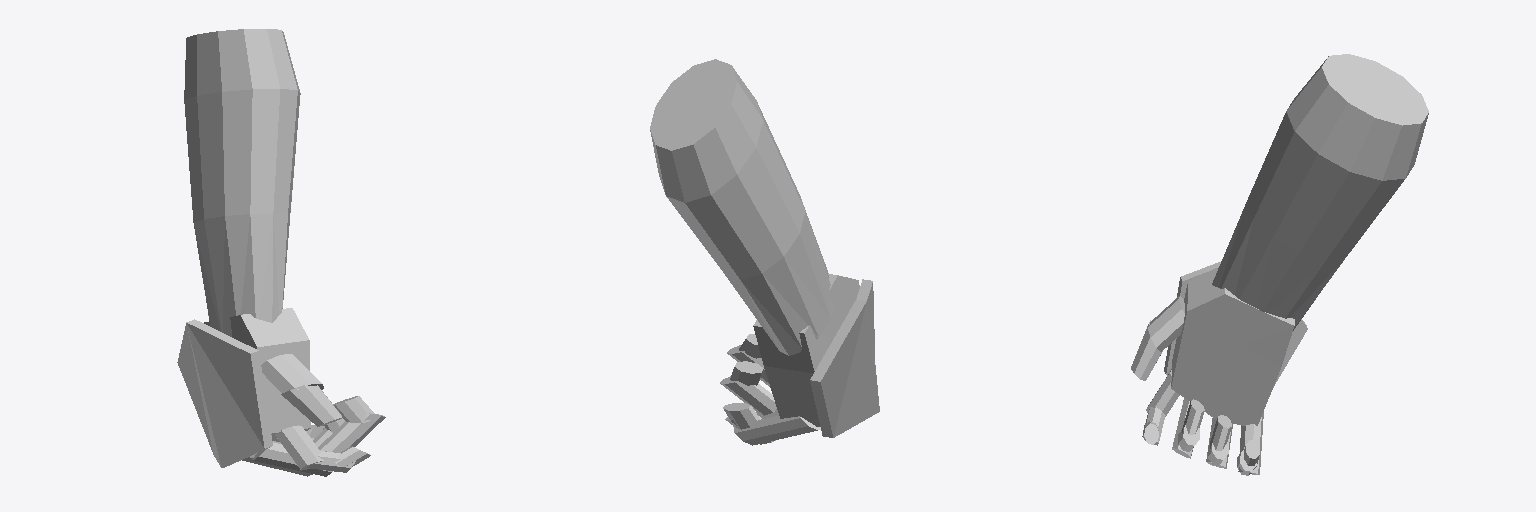
The model's file is ForeArm_R.obj.
3 renders of one model, left to right at view 1: azimuth 30°, elevation 25°; view 2: azimuth 150°, elevation 25°; view 3: azimuth 270°, elevation 25°, orthographic.
Parts seen in each view (by area): view 1: ForeArm_R pCylinder60, ForeArm_R pCube35, ForeArm_R pCube30, ForeArm_R pCylinder19, ForeArm_R pCylinder20, ForeArm_R pCylinder21, ForeArm_R pCylinder27, ForeArm_R pCylinder22, ForeArm_R pCylinder32; view 2: ForeArm_R pCylinder60, ForeArm_R pCube35, ForeArm_R pCube30, ForeArm_R pCylinder61, ForeArm_R pCylinder57, ForeArm_R pCylinder30, ForeArm_R pCylinder31; view 3: ForeArm_R pCylinder60, ForeArm_R pCube30, ForeArm_R pCylinder19, ForeArm_R pCube35, ForeArm_R pCylinder20, ForeArm_R pCylinder21, ForeArm_R pCylinder61, ForeArm_R pCylinder31.
Boxes of the visible parts, x1,y1,x2,y2 form: ForeArm_R pCylinder60: [184, 29, 300, 337]; ForeArm_R pCube35: [177, 319, 272, 467]; ForeArm_R pCube30: [204, 308, 310, 441]; ForeArm_R pCylinder19: [261, 354, 323, 392]; ForeArm_R pCylinder20: [281, 385, 342, 426]; ForeArm_R pCylinder21: [275, 425, 323, 470]; ForeArm_R pCylinder27: [318, 413, 385, 452]; ForeArm_R pCylinder22: [252, 441, 332, 476]; ForeArm_R pCylinder32: [333, 396, 374, 423]; ForeArm_R pCylinder60: [650, 59, 833, 355]; ForeArm_R pCube35: [810, 279, 879, 437]; ForeArm_R pCube30: [753, 274, 859, 426]; ForeArm_R pCylinder61: [733, 415, 820, 445]; ForeArm_R pCylinder57: [720, 376, 776, 415]; ForeArm_R pCylinder30: [723, 403, 759, 429]; ForeArm_R pCylinder31: [730, 361, 763, 385]; ForeArm_R pCylinder60: [1212, 54, 1428, 330]; ForeArm_R pCube30: [1171, 267, 1294, 425]; ForeArm_R pCylinder19: [1148, 296, 1184, 351]; ForeArm_R pCube35: [1164, 262, 1307, 387]; ForeArm_R pCylinder20: [1131, 320, 1162, 380]; ForeArm_R pCylinder21: [1146, 370, 1179, 416]; ForeArm_R pCylinder61: [1238, 412, 1263, 474]; ForeArm_R pCylinder31: [1210, 415, 1231, 450].
Bounding box in the file's own units: 1.1 × 2.56 × 1.68.